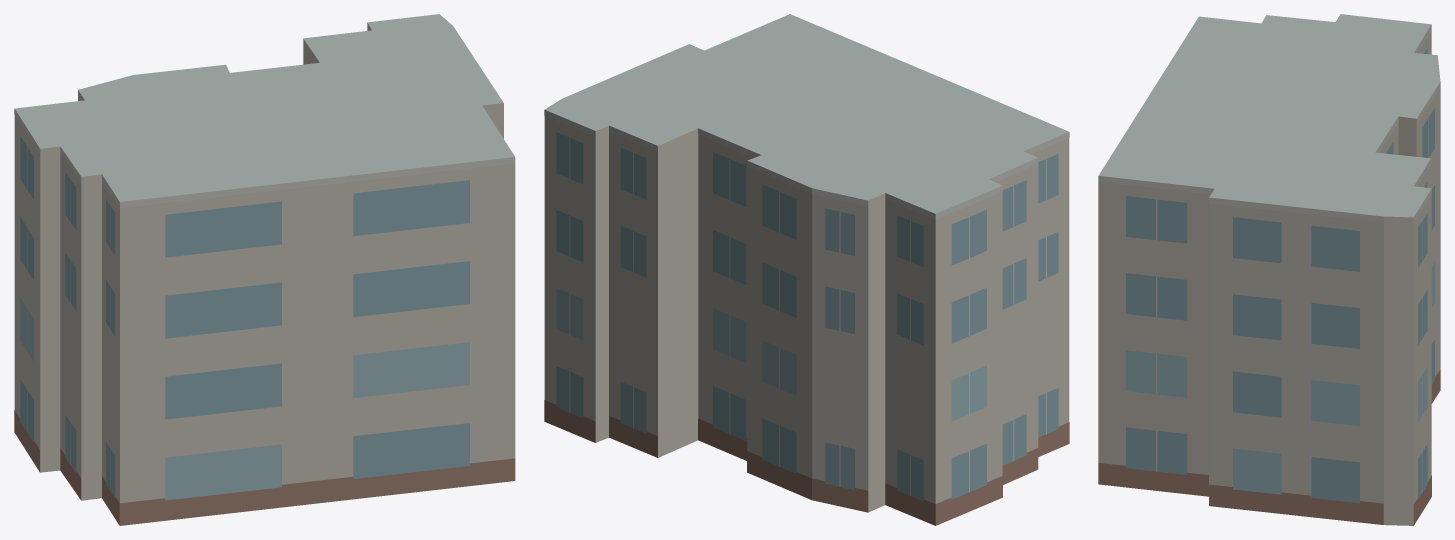
The model's file is survey-upis-33015432.glb.
The picture shows the model from 3 angles, left to right: view 1: azimuth 30°, elevation 25°; view 2: azimuth 150°, elevation 25°; view 3: azimuth 270°, elevation 25°; orthographic projection. The views are drawn at different scales.
Parts seen in each view (by area): view 1: survey-upis-33015432.tmp; view 2: survey-upis-33015432.tmp; view 3: survey-upis-33015432.tmp.
Boxes of the visible parts, box(x1,y1,x2,y2) form: survey-upis-33015432.tmp: box(14, 14, 515, 525); survey-upis-33015432.tmp: box(544, 14, 1069, 525); survey-upis-33015432.tmp: box(1098, 14, 1440, 525).
Size of the model in its own units: 17.96 by 12.7 by 12.77.
